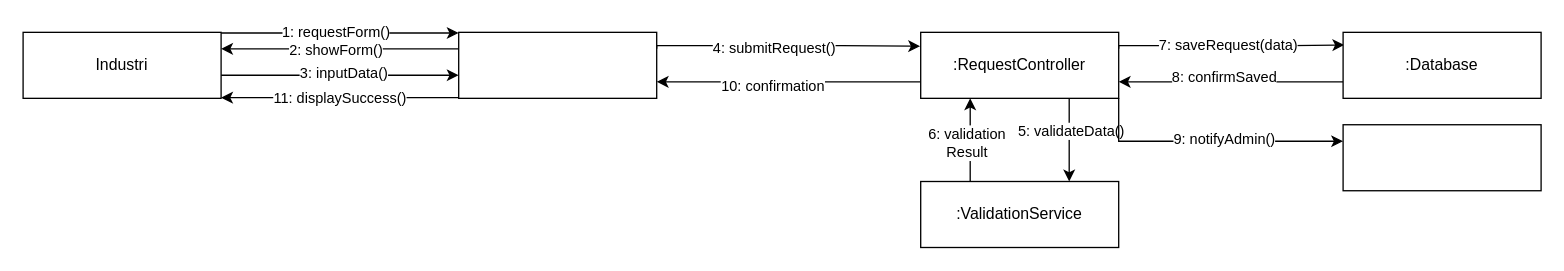
This 1564x271 diagram has some shape labels left out. Here are the shapes that lost their labels. From the top down, the centre of each, then its label:
the point at 557,64: :SubmissionForm
the point at 1441,157: :NotificationService
